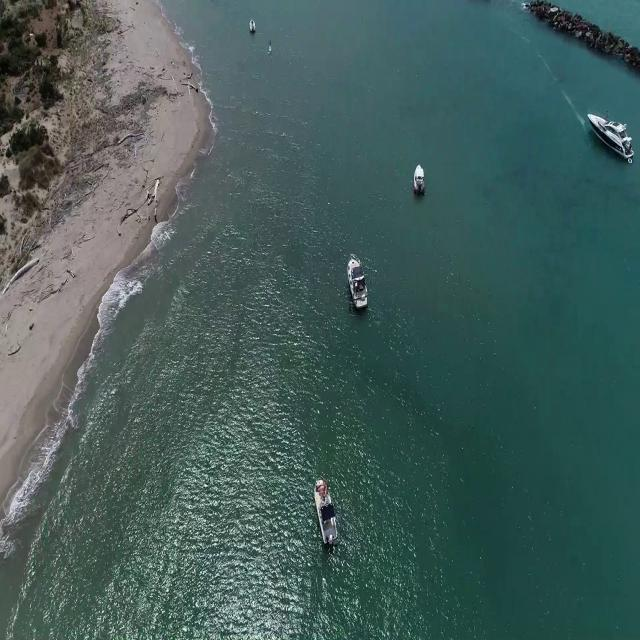boat: (587, 108, 632, 163), (314, 472, 337, 552), (346, 253, 369, 316), (412, 162, 428, 197), (248, 17, 256, 33)
person: (268, 36, 274, 48)
surfboard: (268, 45, 274, 57)
wood: (120, 179, 162, 225)
